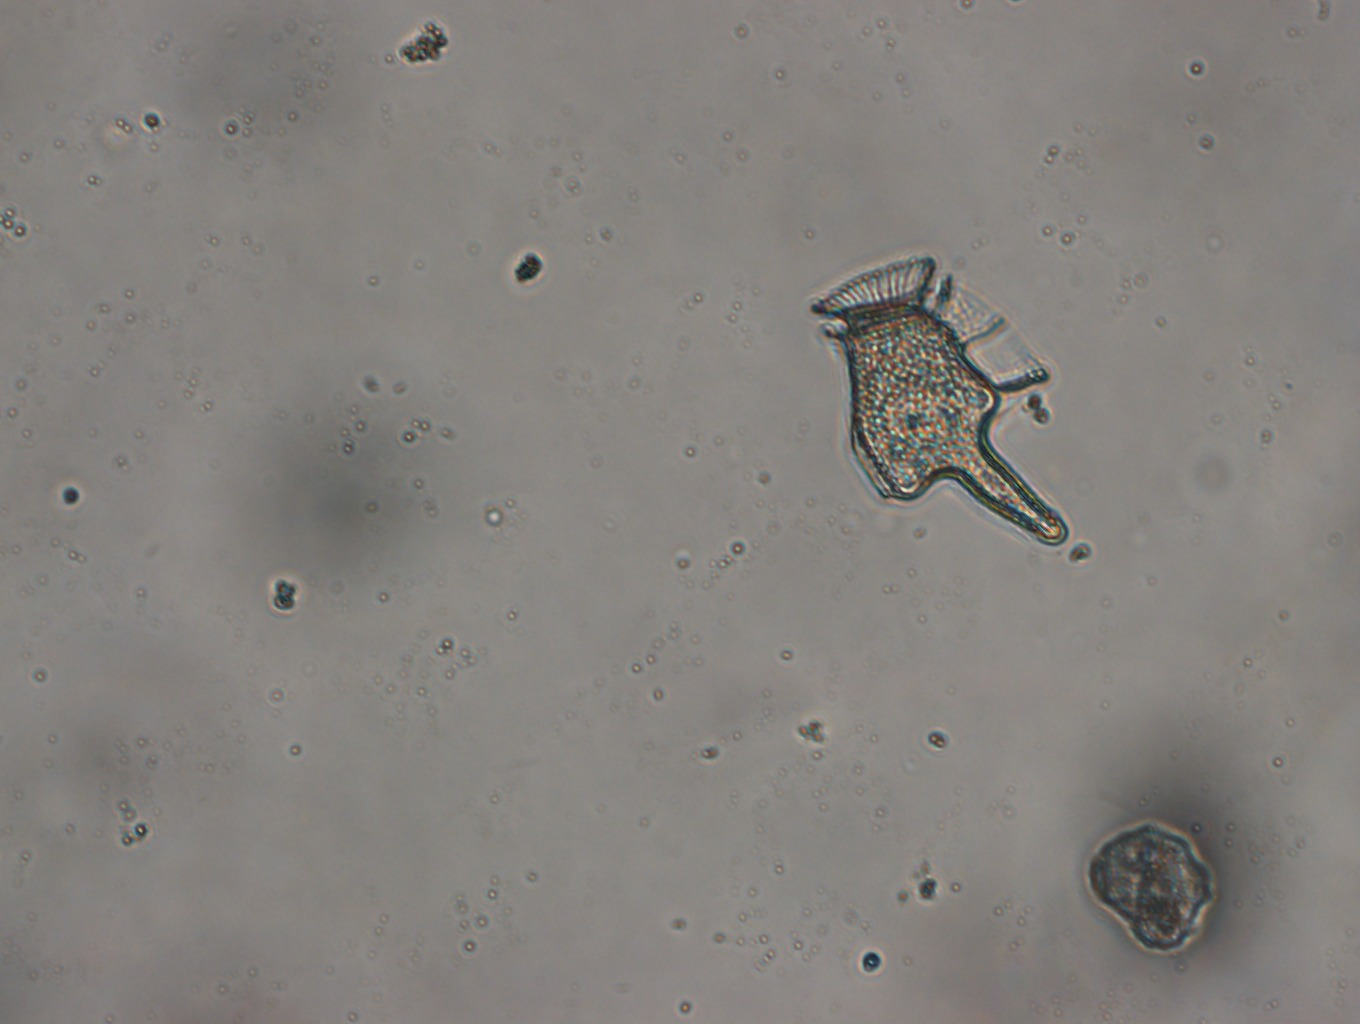dinophysis caudata: (804, 254, 1069, 554)
